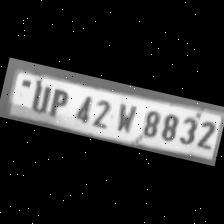2: (86, 95, 115, 131), (192, 116, 218, 151)
3: (176, 113, 200, 146)
4: (69, 90, 96, 124)
8: (134, 104, 163, 140), (157, 109, 182, 143)
P: (42, 85, 72, 120)
U: (25, 80, 52, 114)
W: (108, 98, 140, 136)
